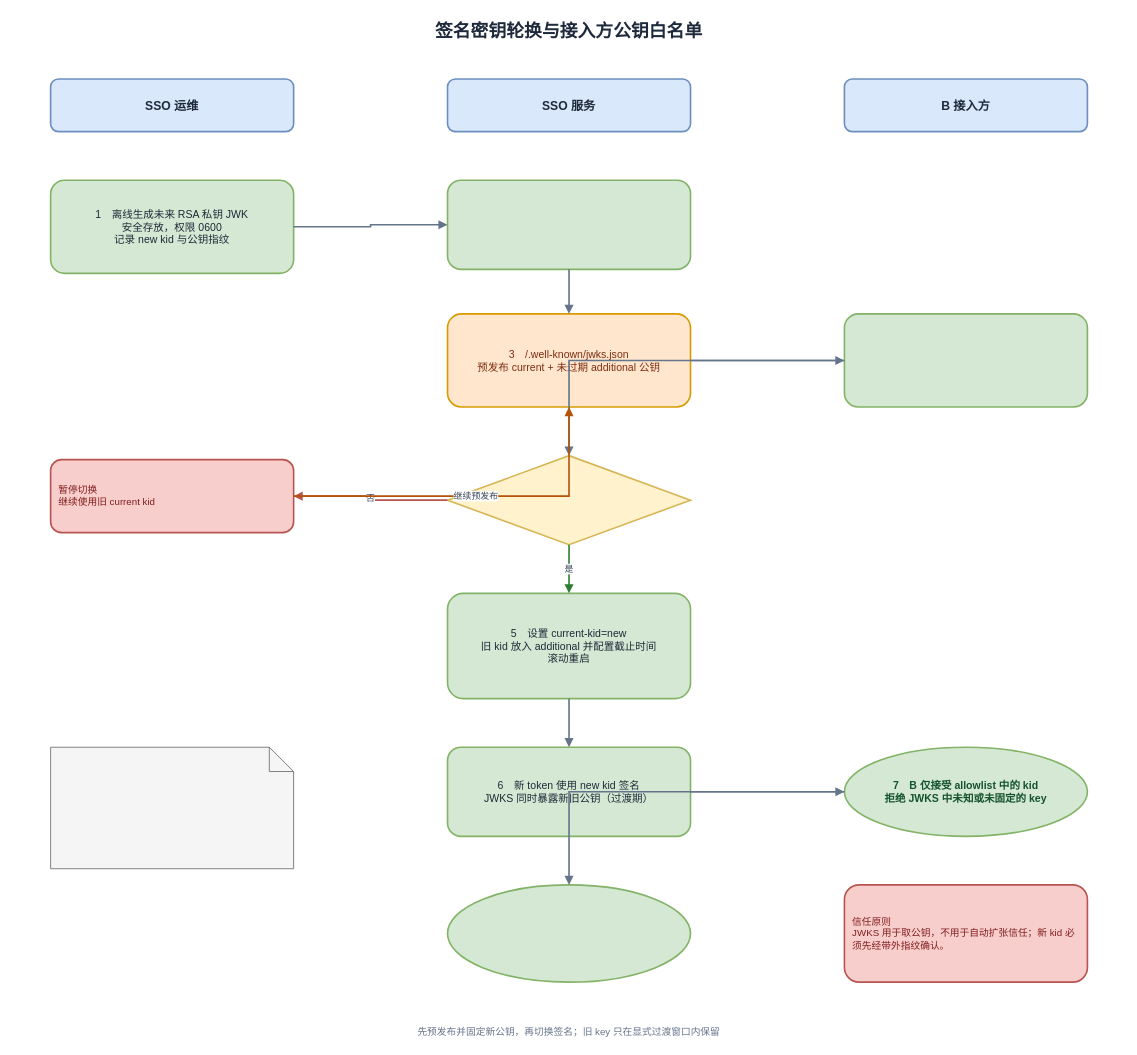
The diagram is 1137 pixels wide and 1055 high, and some of its shapes have lost their labels. Here are the shapes that lost their labels. From the top down, the centre of each, then its label:
At (568,224): "2 配置 jwks-additional-kids[new] =明确截止时间，滚动重启".
At (965,360): "4 通过独立可信渠道核对指纹 把 new kid 加入本地 allowlist".
At (568,499): "所有 B 都已固定并验证 new kid？".
At (172,807): "当前实现边界 • 无密钥管理 UI / CLI • 轮换依赖配置与滚动重启 • additional kid 必须显式设置过期时间".
At (568,933): "8 截止时间后旧 kid 不再出现在 JWKS 确认无旧 token 后人工移除旧私钥".
